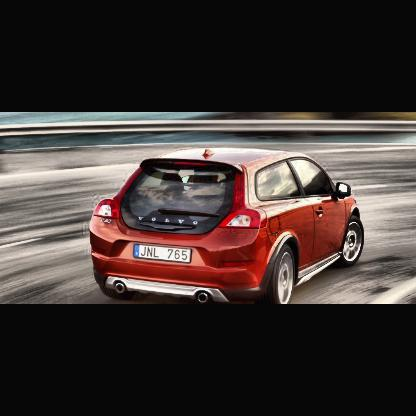Volvo C30 Hatchback 2012: (90, 148, 366, 304)
